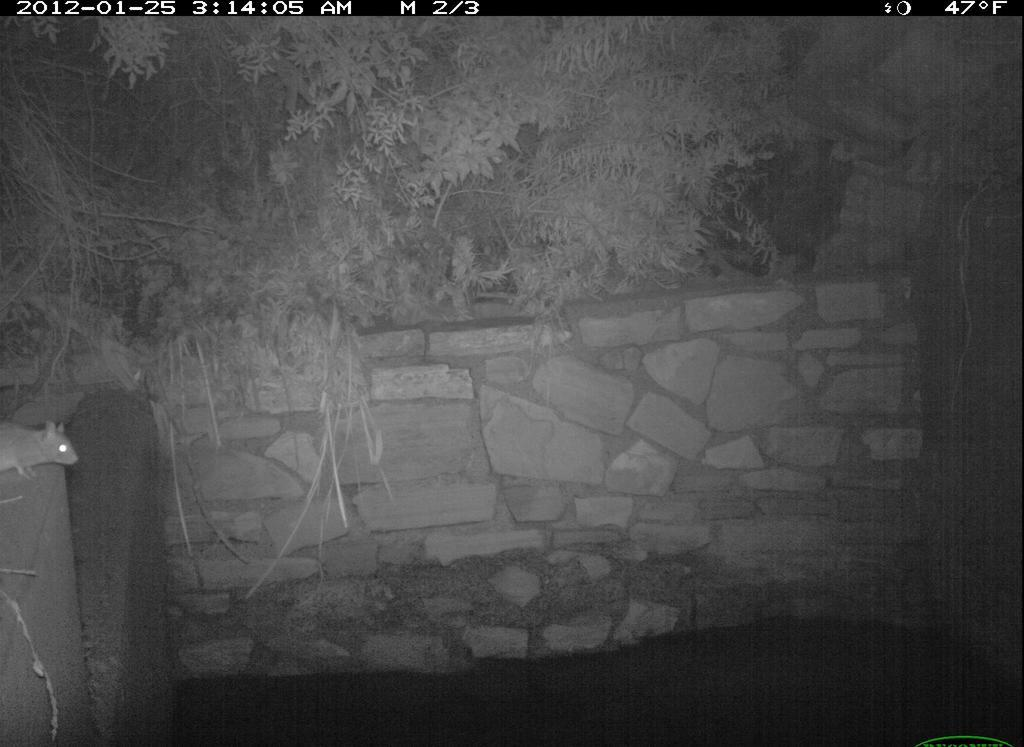rodent: (6, 402, 91, 483)
